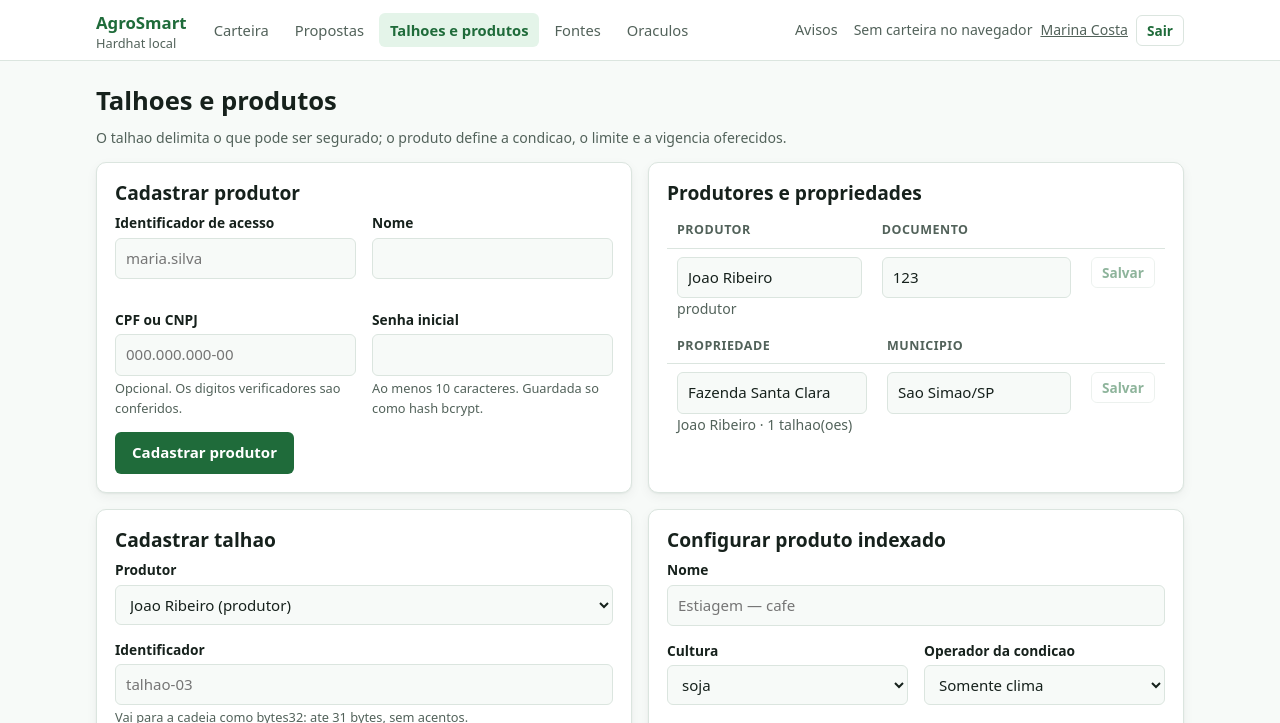
talhoes, produtores e produtos (RF03, RF05, HU09) › cadastra talhao pelo poligono digitado e mostra a area do PostGIS
Type "talhao-09" into the field with placeholder "talhao-03" at [364, 685], box [115,664,613,705]
(page scrolled)
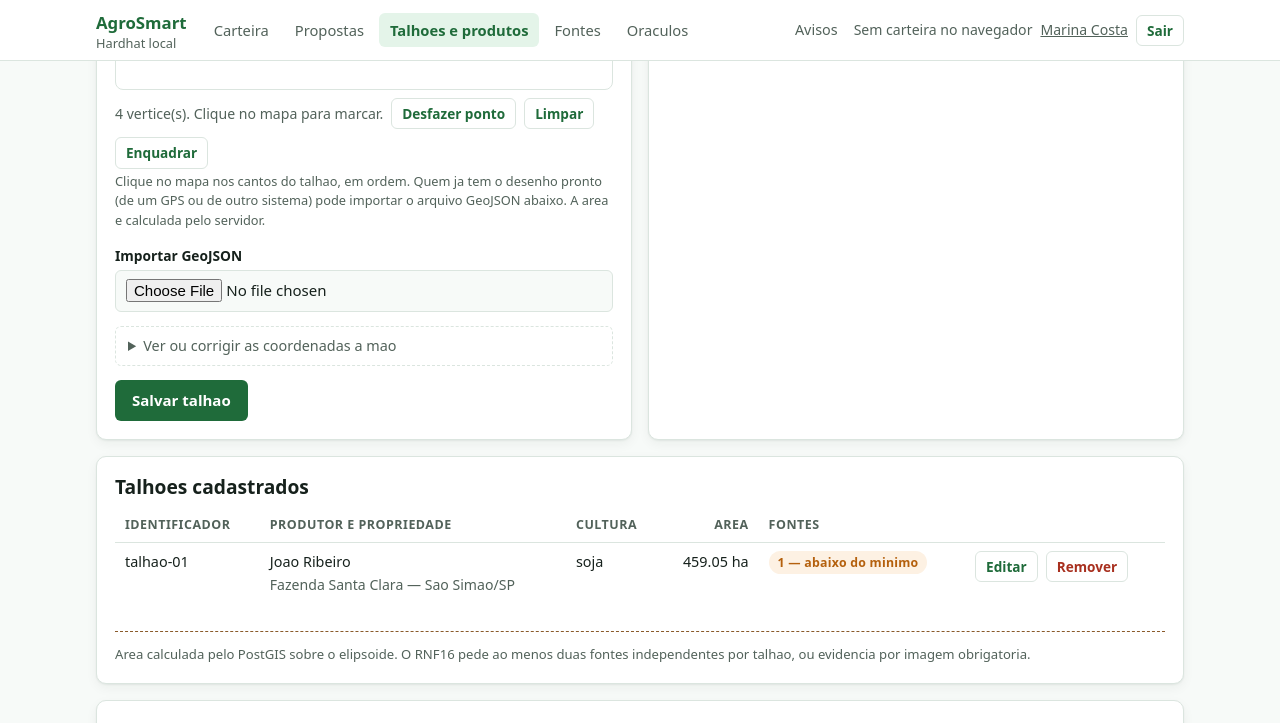
Click the button "Salvar talhao" at [181, 401], box [115,380,248,421]
(page scrolled)
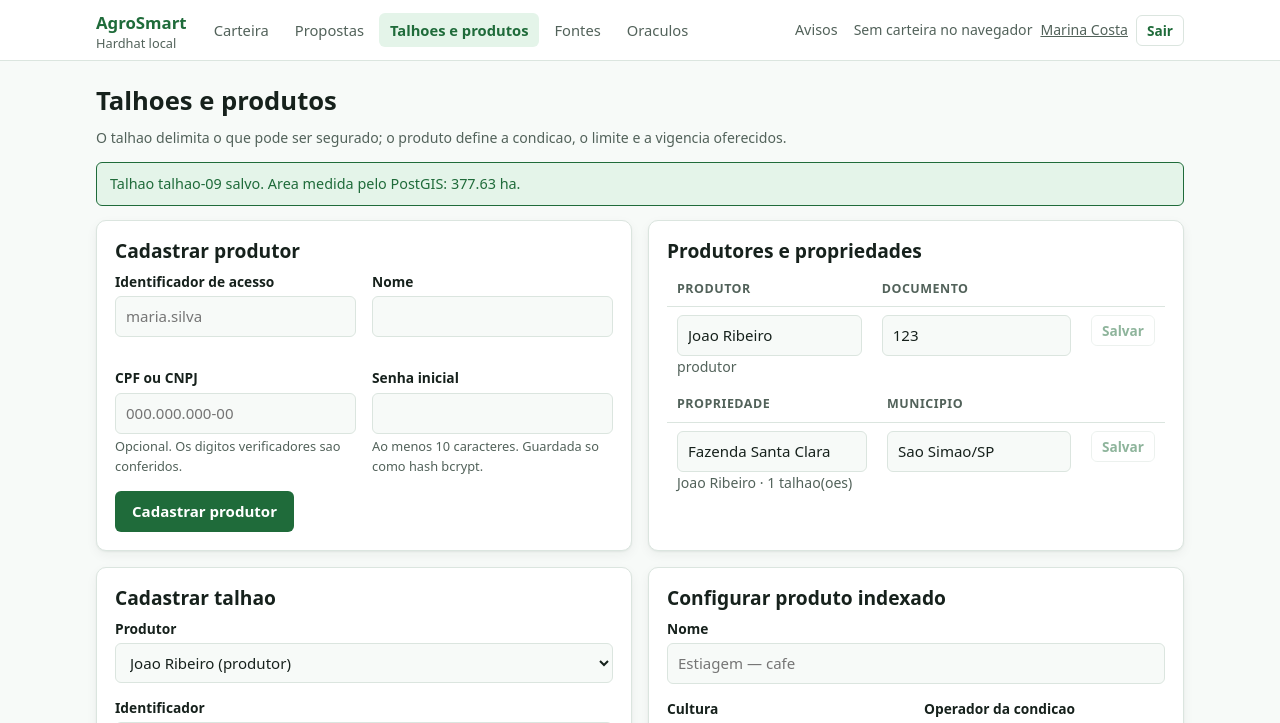
Expected: the text "Talhao talhao-09 salvo. Area medida pelo PostGIS: 377.63 ha." is shown, [96,162,1184,206]
